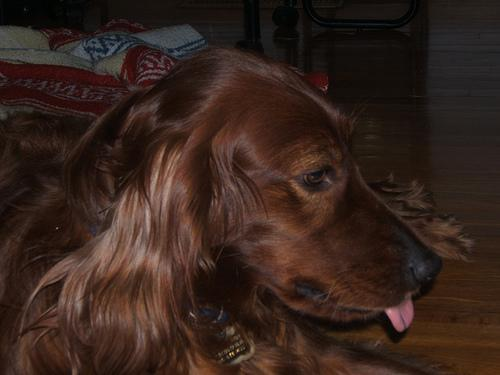Irish_setter: (0, 40, 441, 374)
